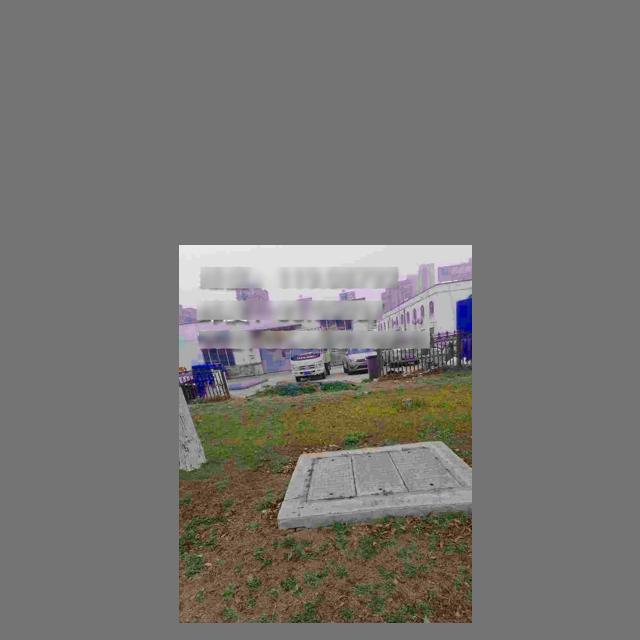good: (299, 445, 471, 504)
